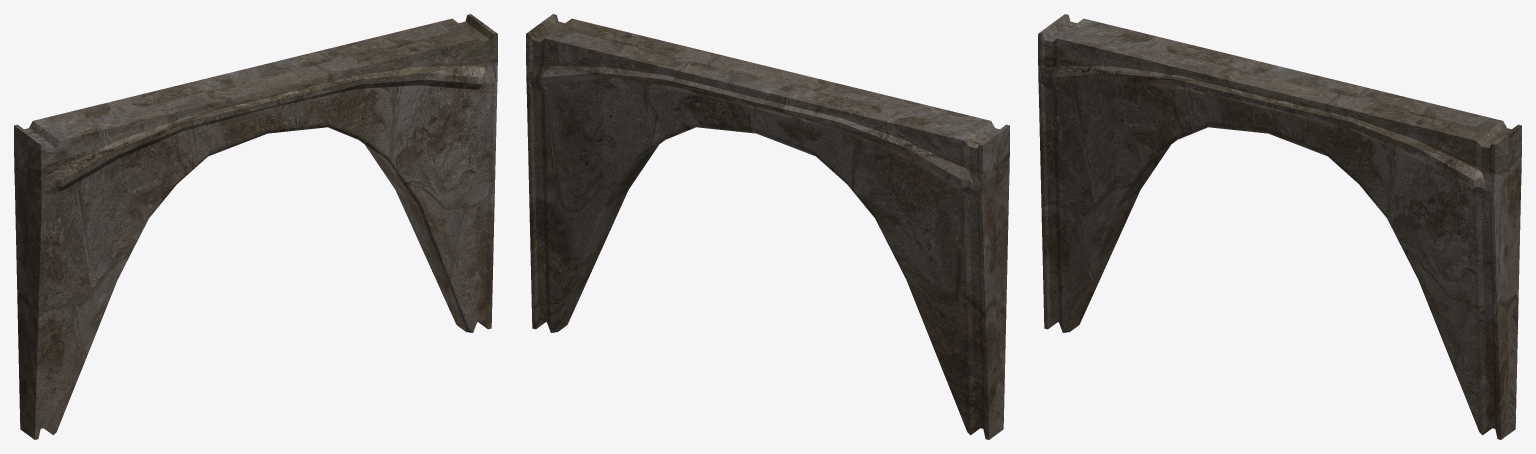
The model's file is arco.fbx.
3 renders of one model, left to right at view 1: azimuth 30°, elevation 25°; view 2: azimuth 150°, elevation 25°; view 3: azimuth 330°, elevation 25°, orthographic.
Parts seen in each view (by area): view 1: Ceiling_arc; view 2: Ceiling_arc; view 3: Ceiling_arc.
Part boxes in pixels (<box>): Ceiling_arc: <box>14,14,497,439</box>; Ceiling_arc: <box>526,14,1009,439</box>; Ceiling_arc: <box>1038,14,1521,439</box>.
Bounding box in the file's own units: 582 × 364 × 71.76.
